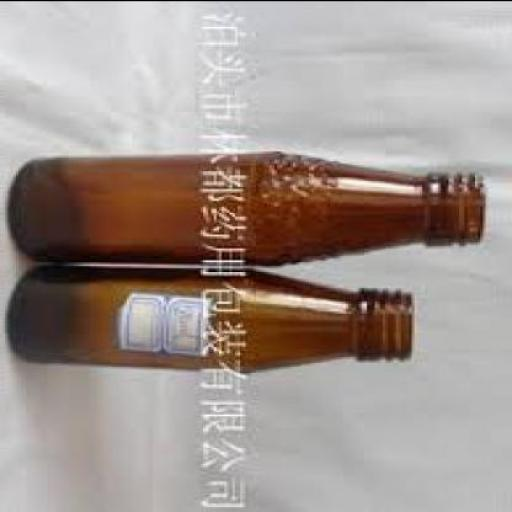glass: (13, 146, 488, 259), (14, 265, 417, 368)
